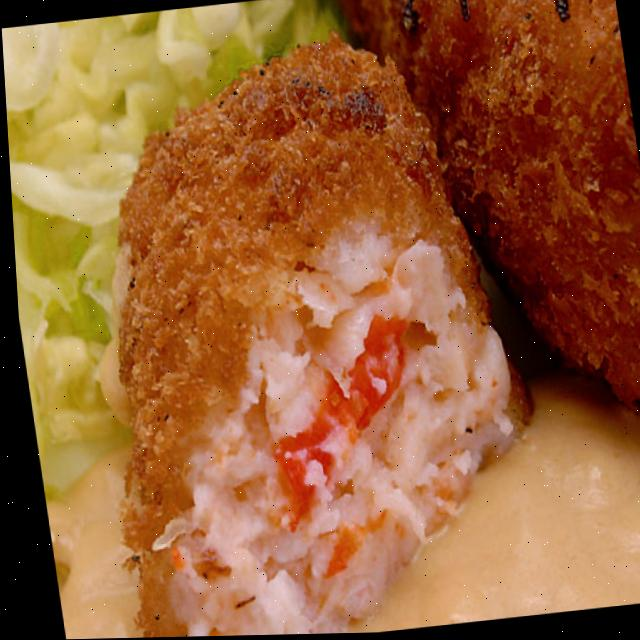炸货点心: (37, 0, 640, 639)
